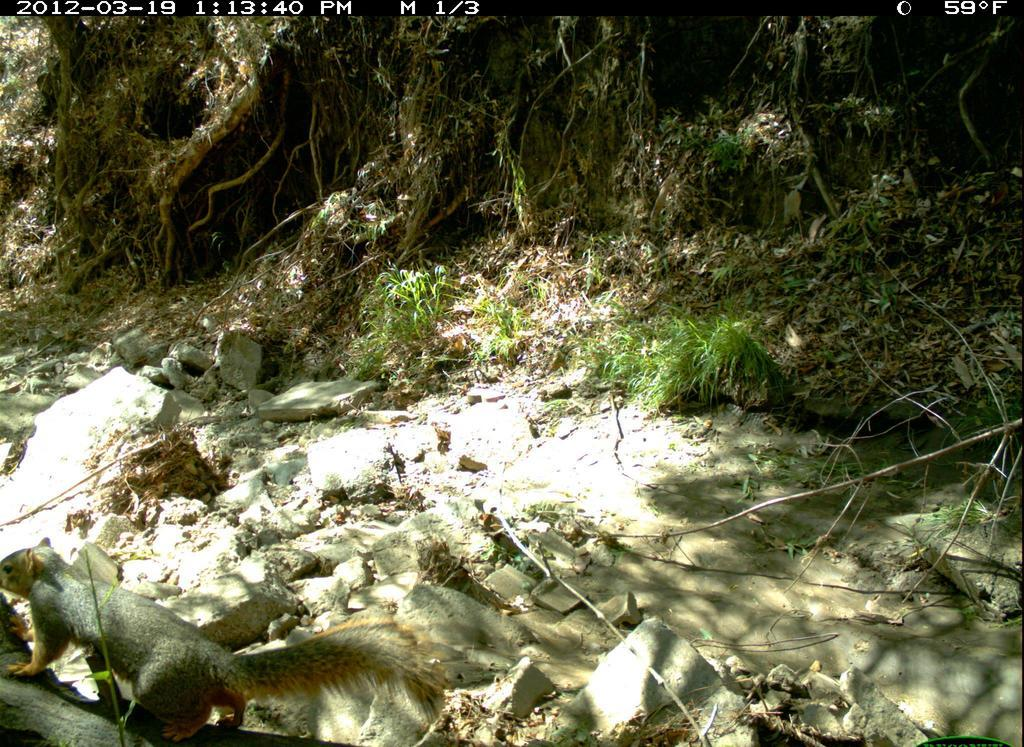squirrel: (2, 536, 450, 747)
